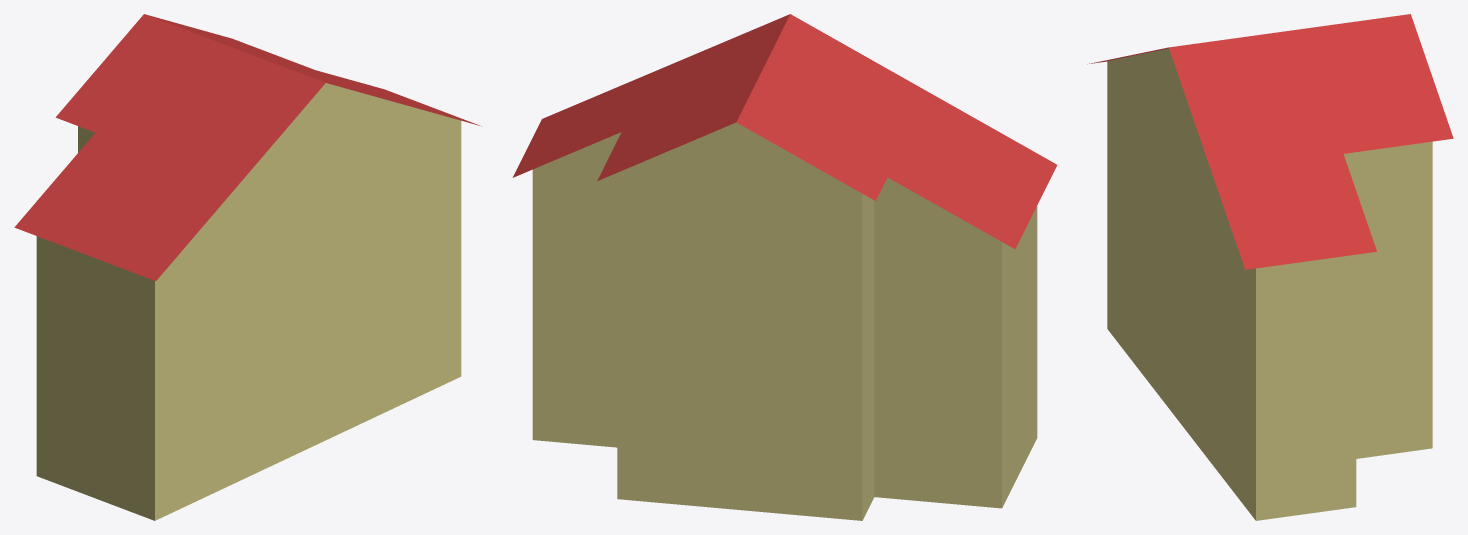
3 renders of one model, left to right at view 1: azimuth 30°, elevation 25°; view 2: azimuth 150°, elevation 25°; view 3: azimuth 270°, elevation 25°, orthographic. The views are drawn at different scales.
Size of the model in its own units: 16.46 by 11.04 by 12.71.
